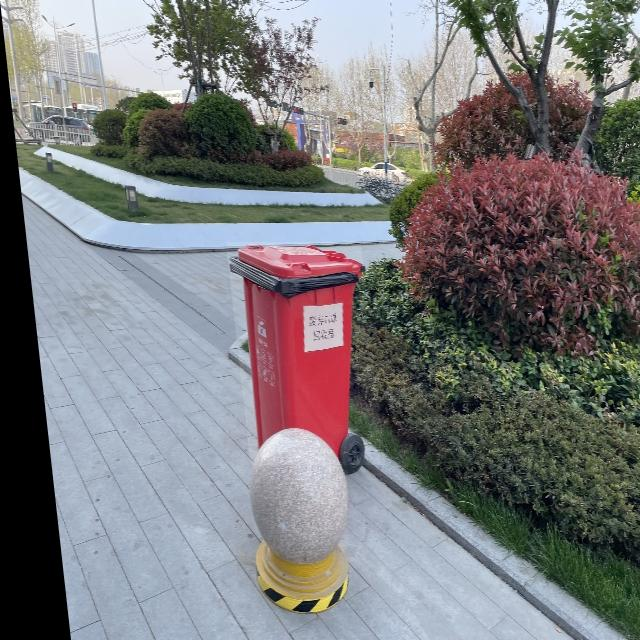garbage_bin: (220, 242, 375, 465)
